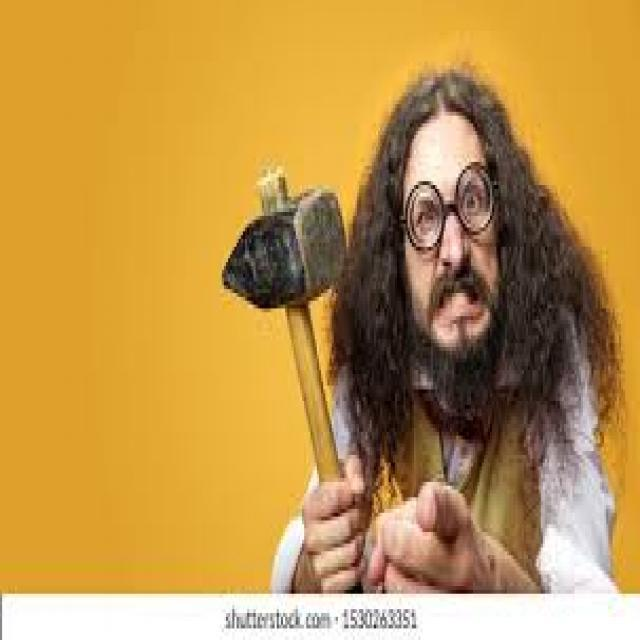hammer: (207, 145, 353, 488)
